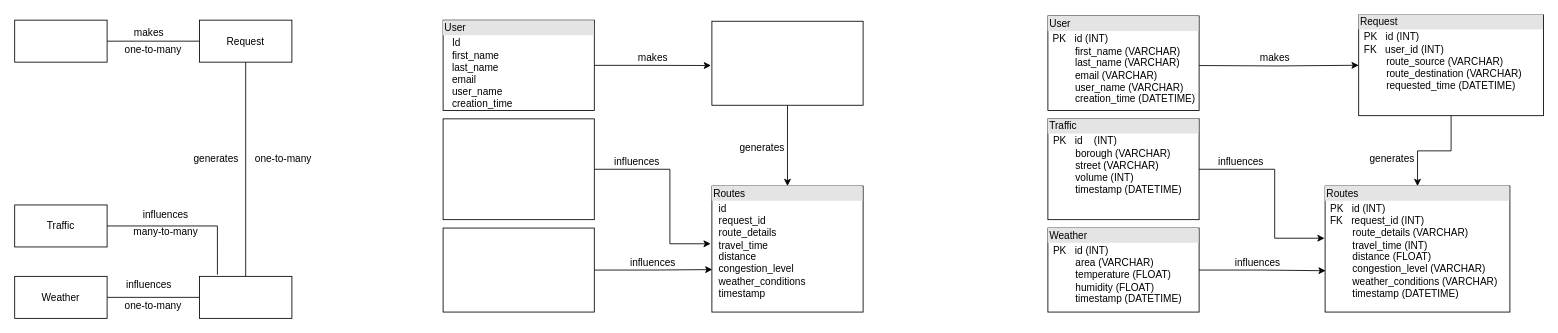
This 1558x333 diagram has some shape labels left out. Here are the shapes that lost their labels. From the top down, the box of each, then its label:
(14, 19, 107, 62): User
(711, 20, 863, 105): Request Id user_id route_source route_destination requested_time
(442, 118, 594, 220): Traffic id borough street volume timestamp
(442, 227, 594, 312): Weather Id area temperature humidity timestamp
(199, 276, 292, 318): Routes
